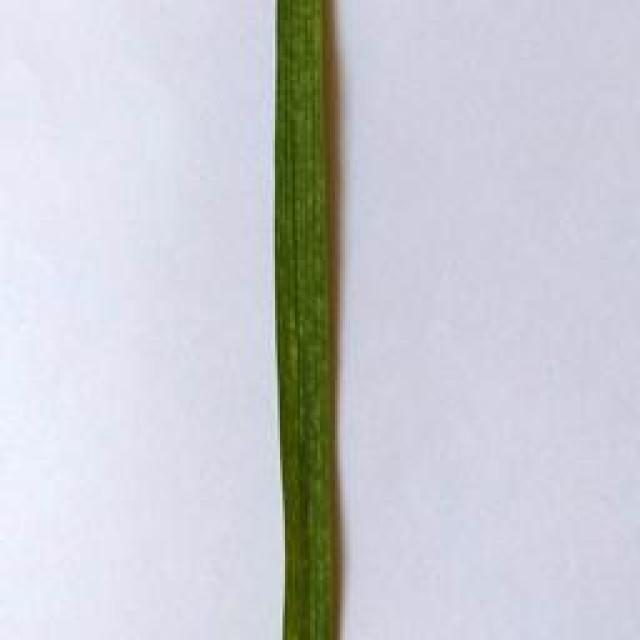Healthy-Plant: (255, 0, 352, 640)
